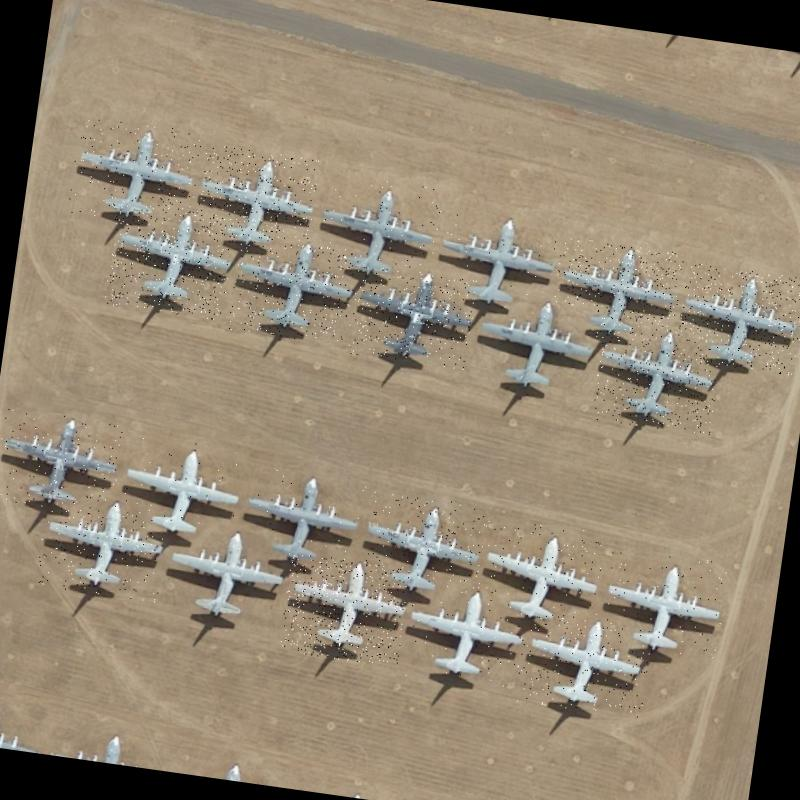A2: (102, 198, 237, 320), (468, 516, 608, 632), (308, 172, 443, 292), (590, 318, 724, 436), (598, 545, 732, 662), (355, 489, 491, 604), (66, 115, 203, 229), (157, 520, 288, 638), (278, 552, 411, 668), (228, 232, 362, 346), (512, 612, 656, 718), (35, 489, 170, 602), (549, 236, 684, 348), (466, 292, 598, 406), (115, 431, 248, 544), (240, 461, 374, 573), (429, 207, 562, 318), (396, 579, 527, 691), (674, 262, 800, 376), (0, 405, 125, 516), (347, 264, 477, 370), (194, 144, 320, 252)
